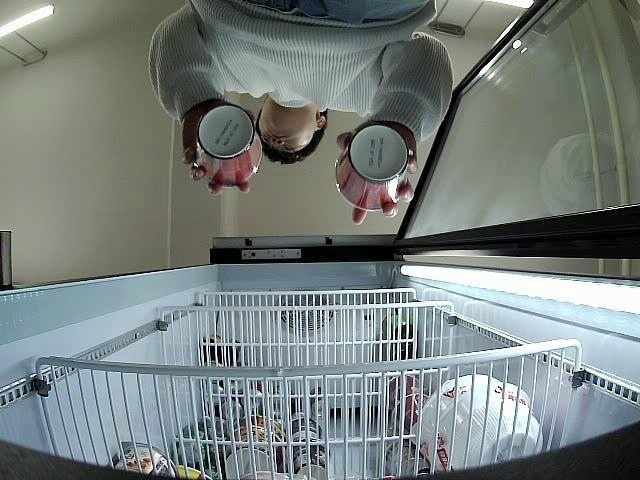02_shinRamen_S: (333, 123, 409, 212), (192, 102, 264, 188)
